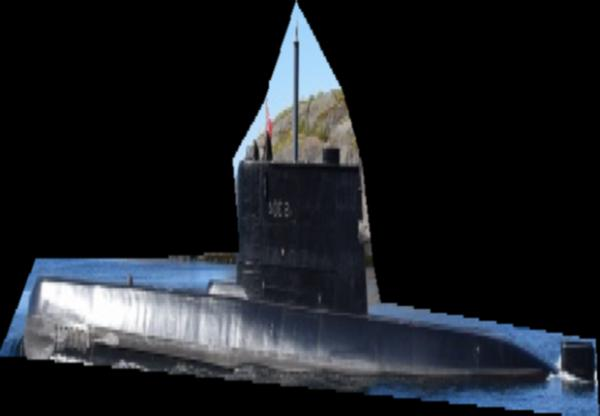Submarine: (0, 1, 599, 416)
